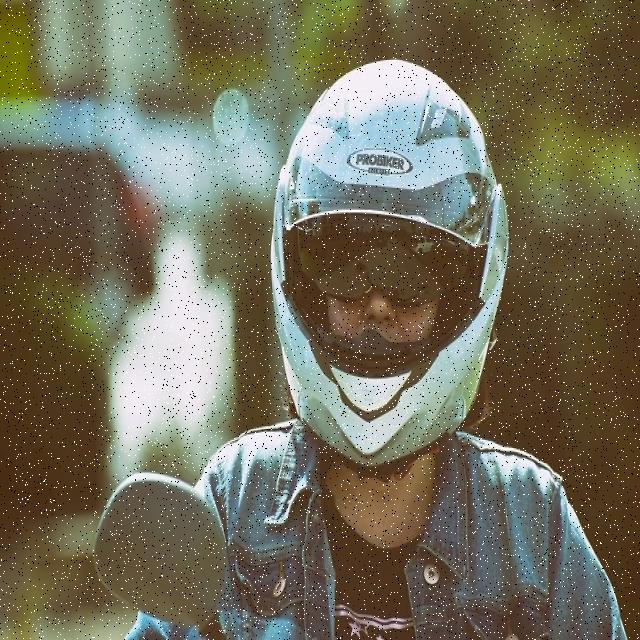Helmet: (270, 58, 512, 472)
